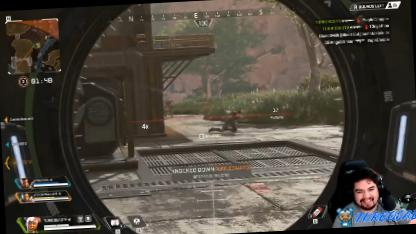Target: (206, 108, 244, 132), (164, 96, 176, 118)
